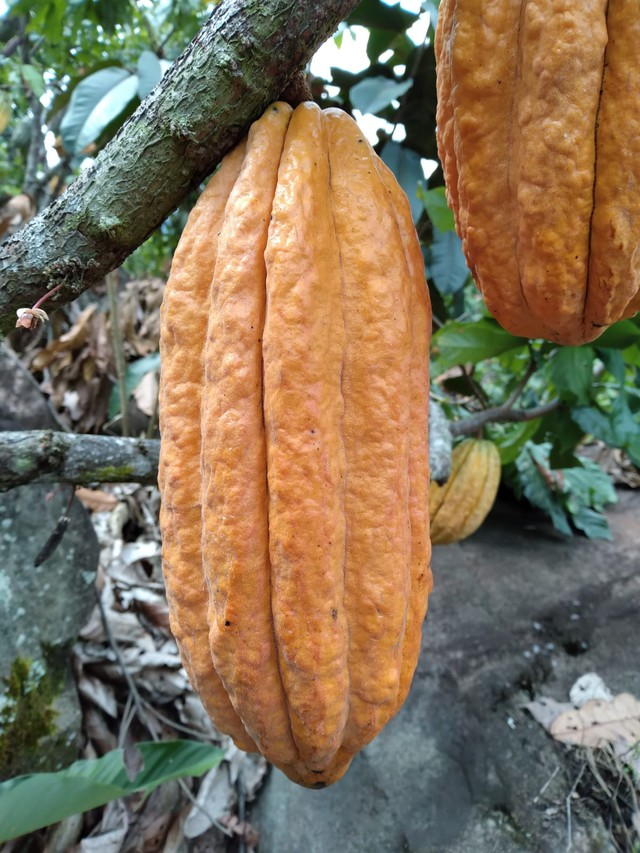Health: (139, 92, 450, 799)
